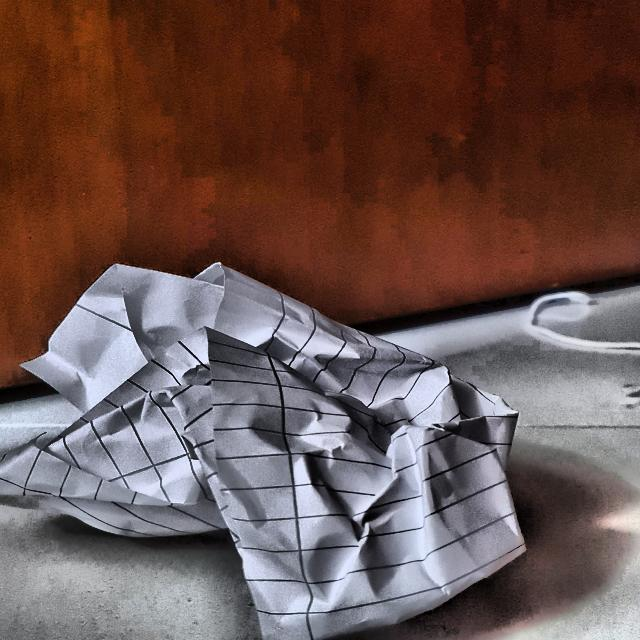paper: (0, 252, 523, 640)
